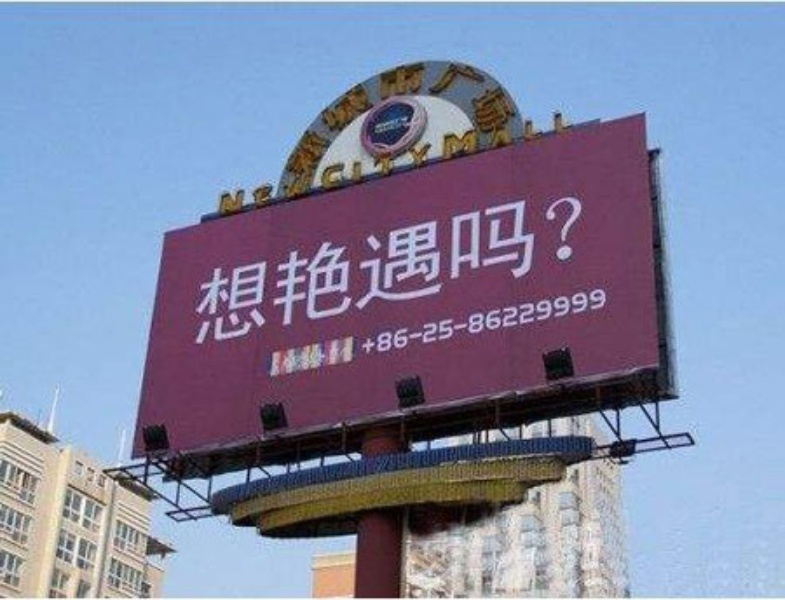text: (193, 185, 208, 353), (209, 185, 224, 353), (225, 185, 240, 353), (241, 185, 256, 353), (257, 185, 272, 353), (273, 185, 288, 353), (289, 185, 304, 353), (305, 185, 320, 353), (321, 185, 336, 353), (337, 185, 352, 353), (353, 185, 368, 353), (369, 185, 384, 353), (385, 185, 400, 353), (401, 185, 416, 353), (417, 185, 432, 353), (433, 185, 448, 353), (449, 185, 464, 353), (465, 185, 480, 353), (481, 185, 496, 353), (497, 185, 512, 353), (513, 185, 528, 353), (529, 185, 544, 353), (545, 185, 560, 353), (561, 185, 576, 353), (577, 185, 592, 353), (273, 41, 288, 184), (289, 41, 304, 184), (305, 41, 320, 184), (321, 41, 336, 184), (337, 41, 352, 184), (353, 41, 368, 184), (369, 41, 384, 184), (385, 41, 400, 184), (401, 41, 416, 184), (417, 41, 432, 184), (433, 41, 448, 184), (449, 41, 464, 184), (465, 41, 480, 184), (481, 41, 496, 184), (497, 41, 512, 184), (184, 185, 192, 353), (369, 285, 384, 360), (385, 285, 400, 360), (401, 285, 416, 360), (417, 285, 432, 360), (433, 285, 448, 360), (449, 285, 464, 360), (465, 285, 480, 360), (481, 285, 496, 360), (497, 285, 512, 360), (513, 285, 528, 360), (529, 285, 544, 360), (545, 285, 560, 360), (561, 285, 576, 360), (577, 285, 592, 360), (593, 285, 608, 360), (593, 185, 599, 353), (513, 41, 520, 184), (449, 109, 464, 163), (465, 109, 480, 163), (481, 109, 496, 163), (497, 109, 512, 163), (513, 109, 528, 163), (529, 109, 544, 163), (545, 109, 560, 163), (561, 109, 576, 163), (358, 285, 368, 360), (225, 171, 240, 219), (241, 171, 256, 219), (257, 171, 272, 219), (273, 171, 288, 219), (289, 171, 304, 219), (321, 144, 336, 191), (337, 144, 352, 191), (353, 144, 368, 191), (369, 144, 384, 191), (385, 144, 400, 191), (401, 144, 416, 191), (417, 144, 432, 191), (212, 171, 224, 219), (438, 109, 448, 163), (305, 171, 316, 219), (269, 41, 272, 184), (433, 144, 437, 191), (577, 109, 580, 163), (609, 285, 611, 360), (318, 144, 320, 191)
